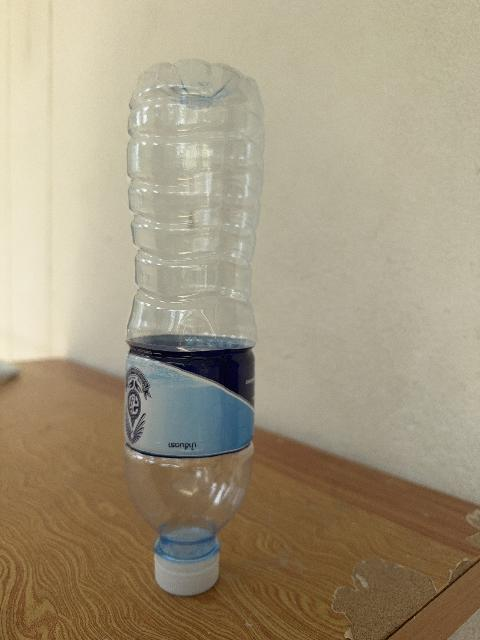bottle: (125, 60, 264, 595)
